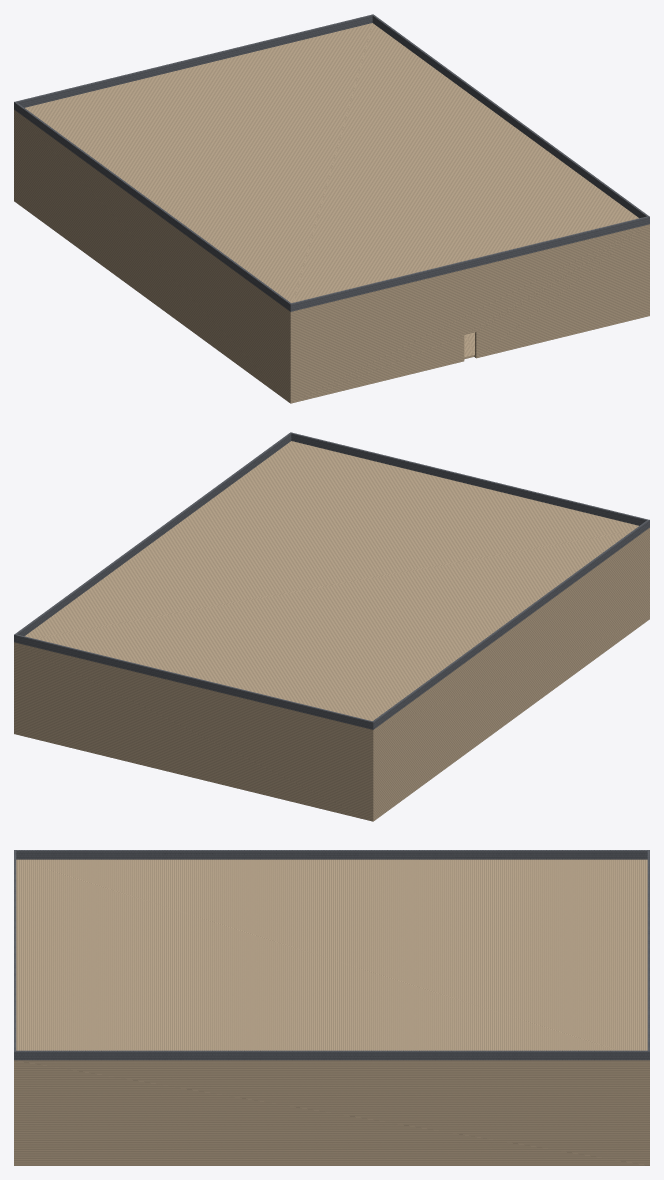
The model's file is rural_hospital.glb.
3 views of the same model, one above another, from view 1: azimuth 30°, elevation 25°; view 2: azimuth 150°, elevation 25°; view 3: azimuth 270°, elevation 25° (orthographic). The views are drawn at different scales.
Parts seen in each view (by area): view 1: rural_hospital-col; view 2: rural_hospital-col; view 3: rural_hospital-col.
Part boxes in pixels (x1=…): rural_hospital-col: x1=14, y1=14, x2=649, y2=403; rural_hospital-col: x1=14, y1=432, x2=649, y2=821; rural_hospital-col: x1=14, y1=850, x2=649, y2=1165.
Bounding box in the file's own units: 30 × 7.92 × 40.
Materials: 2 (2 with a texture image).
